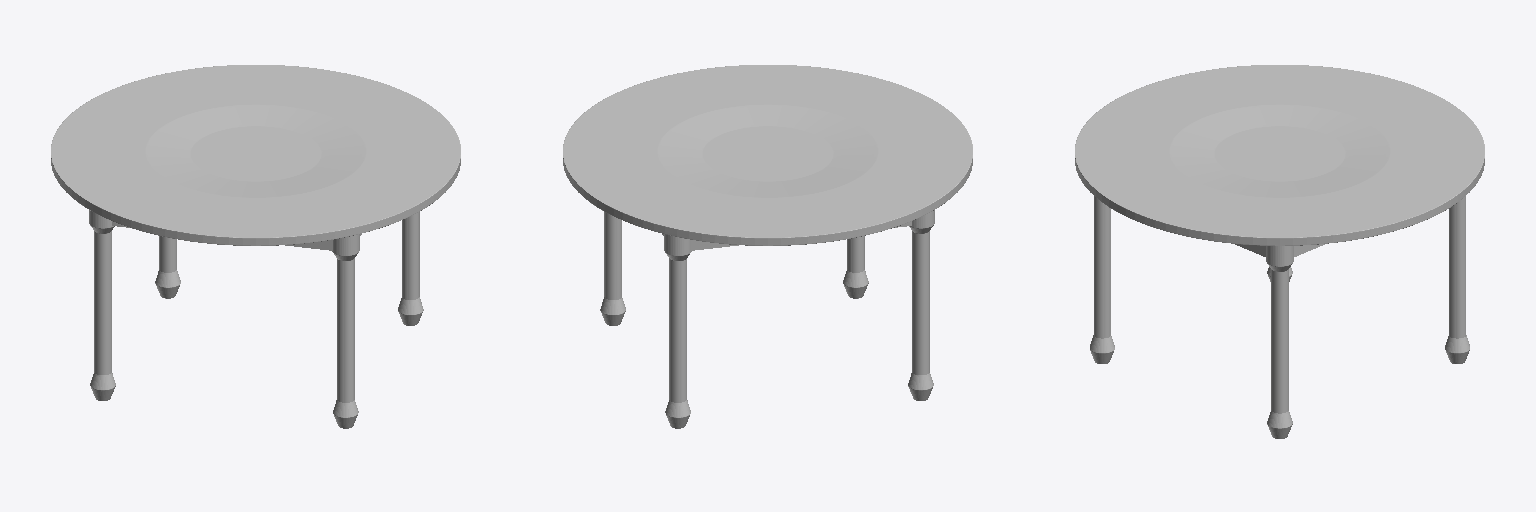
File: table.obj
The picture shows the model from 3 angles: view 1: azimuth 30°, elevation 25°; view 2: azimuth 150°, elevation 25°; view 3: azimuth 270°, elevation 25°; orthographic projection.
Parts seen in each view (by area): view 1: Table_Support_Cube; view 2: Table_Support_Cube; view 3: Table_Support_Cube.
Part boxes in pixels (bbox=[...]): Table_Support_Cube: bbox=[51, 65, 460, 428]; Table_Support_Cube: bbox=[563, 65, 972, 428]; Table_Support_Cube: bbox=[1075, 65, 1484, 438].
Bounding box in the file's own units: 0.8683 × 0.4888 × 0.8683.